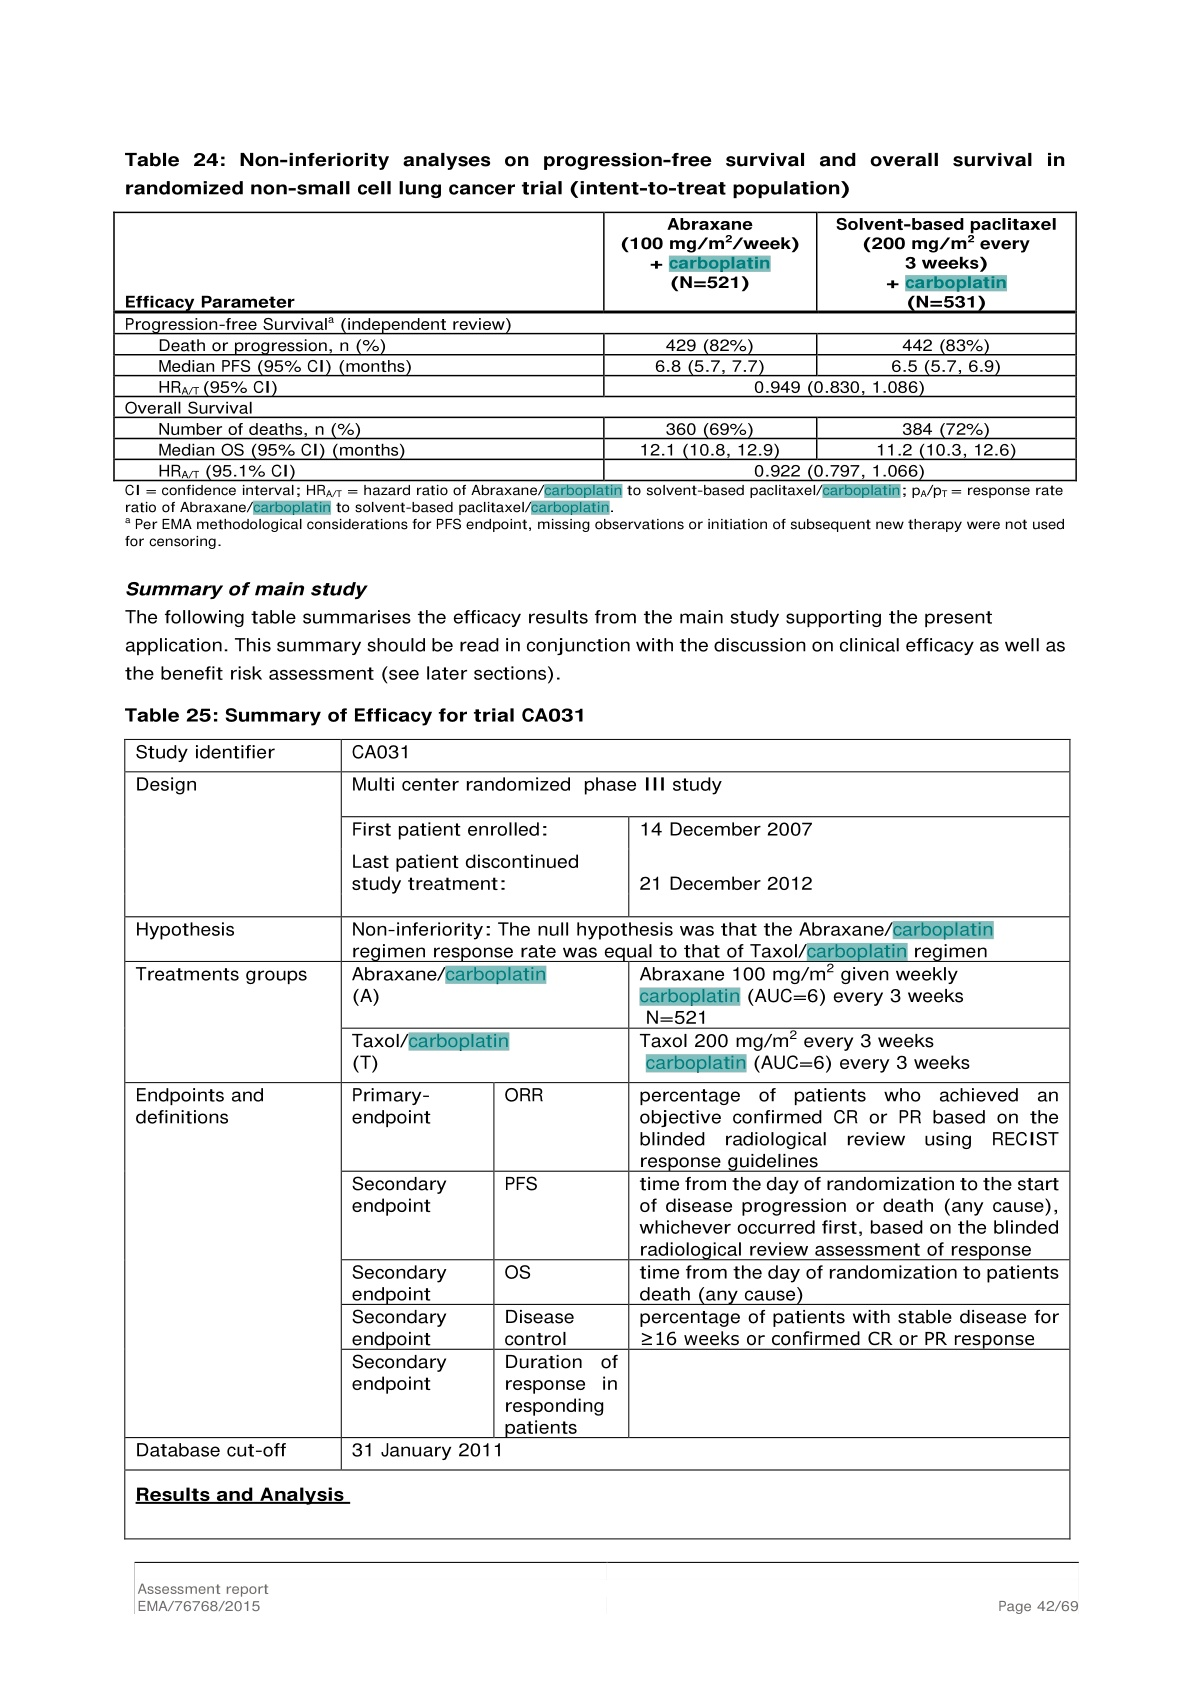merged_cells: (124, 737, 1072, 1542), (113, 211, 1078, 482)
